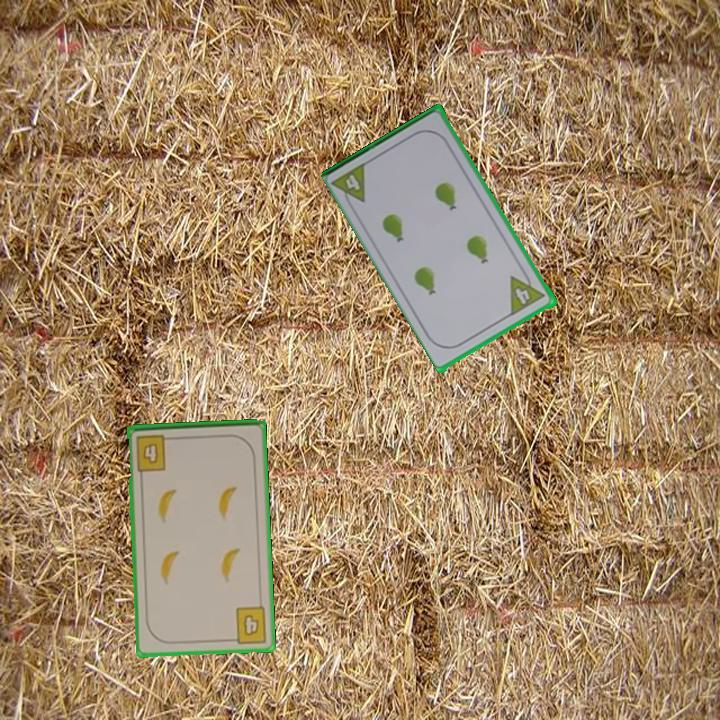4b: (226, 603, 270, 646), (133, 431, 176, 474)
4p: (506, 275, 536, 316), (342, 171, 364, 194)
